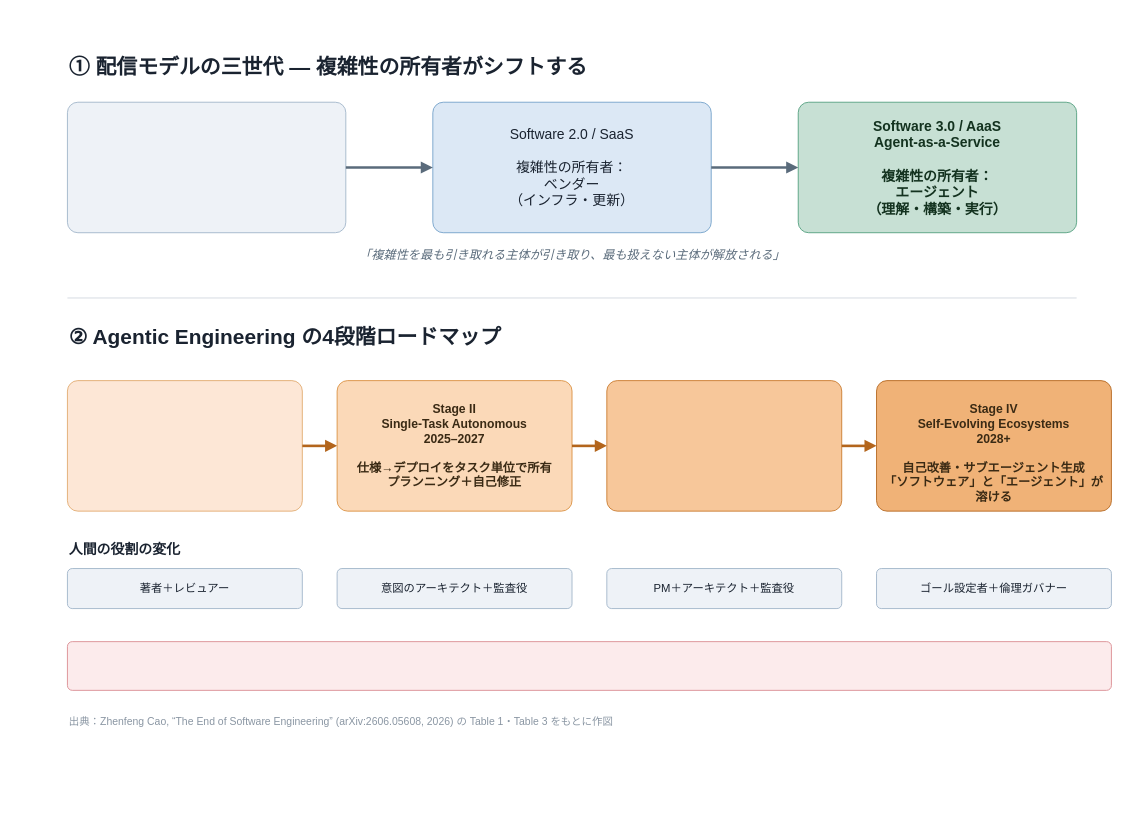
The diagram is 1143 pixels wide and 813 high, and some of its shapes have lost their labels. Here are the shapes that lost their labels. From the top down, the box of each, then its label:
(67, 101, 346, 233): Software 1.0 / ローカル 複雑性の所有者： エンドユーザー （インストール・保守）
(67, 380, 302, 511): Stage I Tool-Augmented 2023–2025 コード補完・単発の Issue 修正 In-context learning / RAG
(606, 380, 842, 511): Stage III Multi-Agent Teams 2026–2029 専門エージェントが協調 共有メモリ・可観測性が基盤に
(67, 641, 1111, 690): ⚠ EvoClaw ベンチマーク：孤立タスクでは 80%超 → 継続的進化では最大 38%。長期保守とエラー伝播が現在地の壁。
